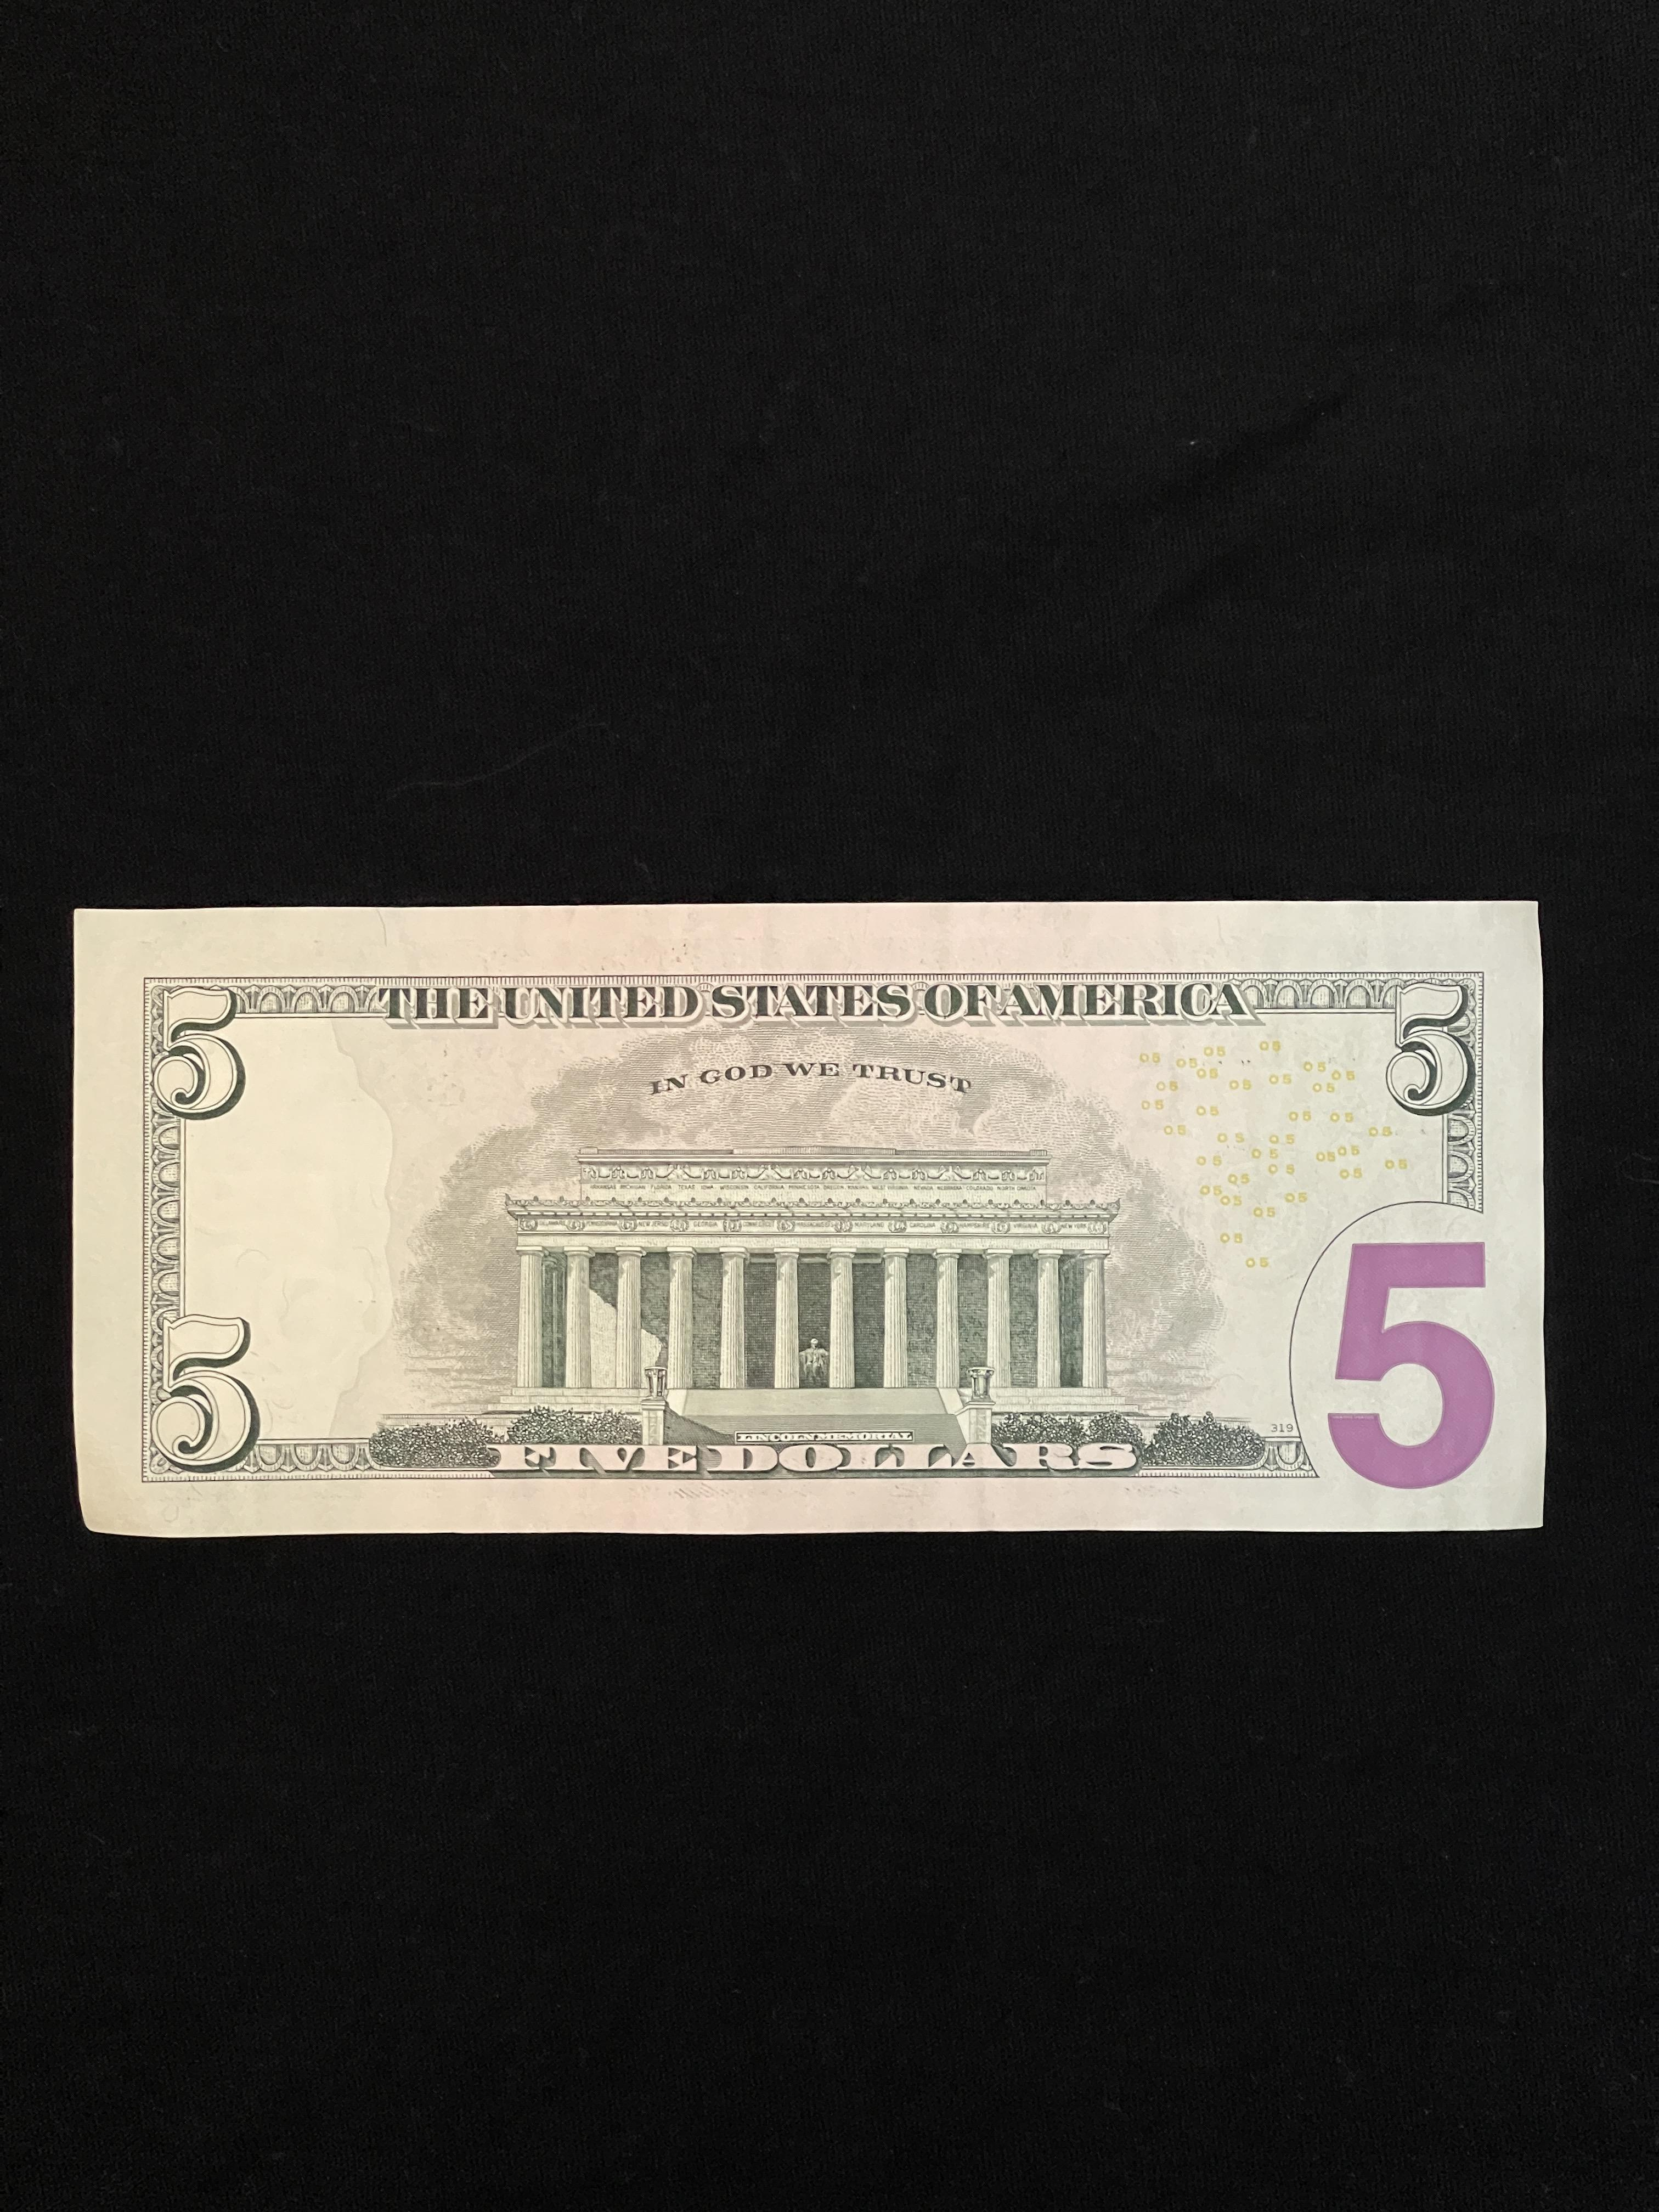FiveBill: (64, 895, 1553, 1543)
